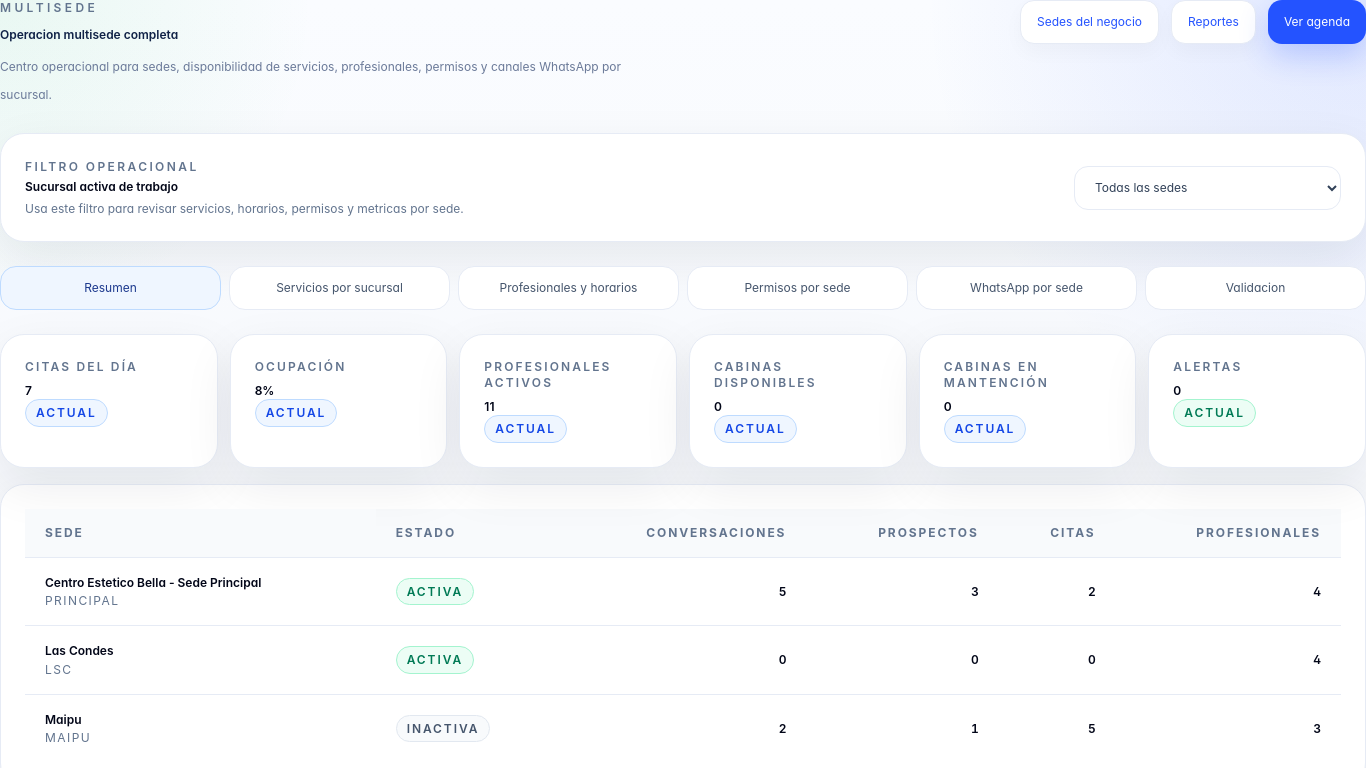
Test: MultisiteOperationsPage - Summary (Resumen) › filters rows when a specific location is selected
expect the table is shown: met, box [25,509,1341,762]
Step 1. Select "Las Condes" in the dropdown → (1208, 188), box [1074,166,1341,210]
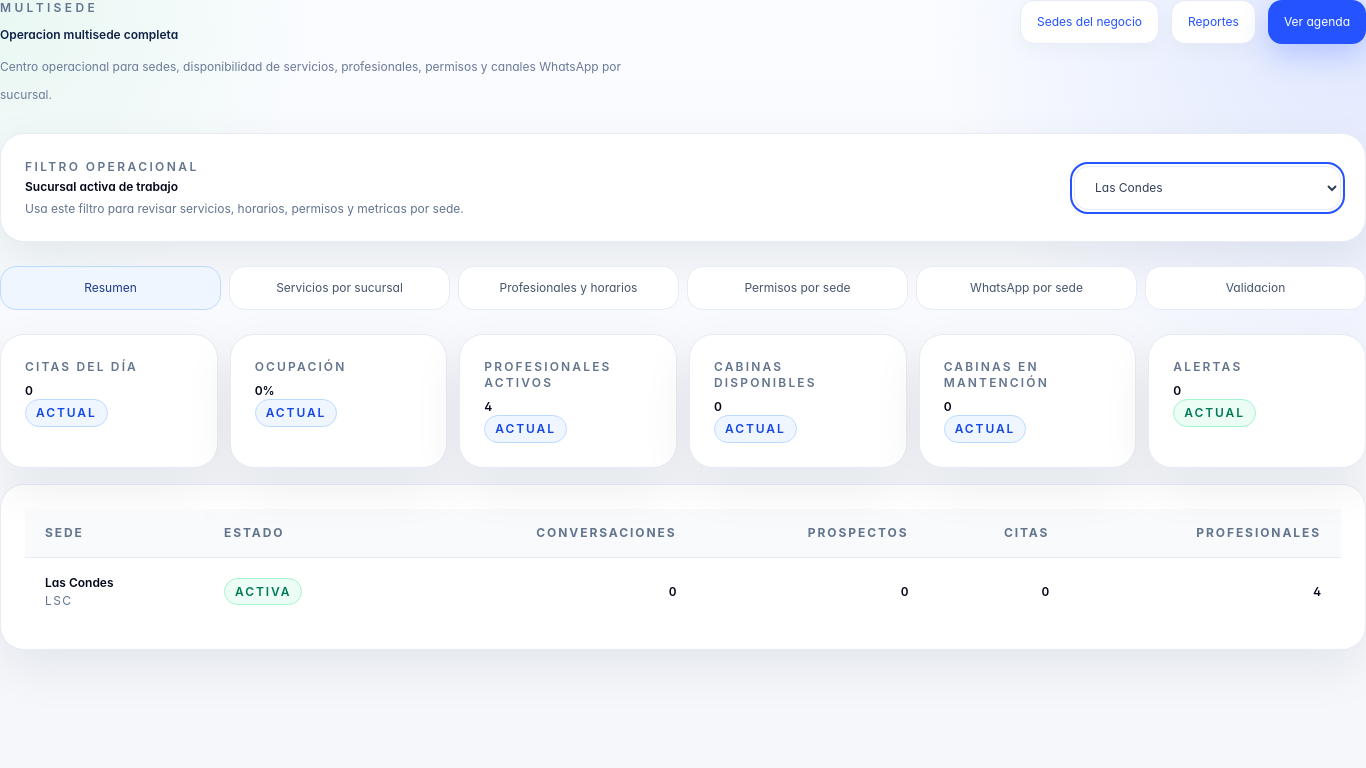
expect the text "Centro Estetico Bella - Sede Principal" is gone: met
